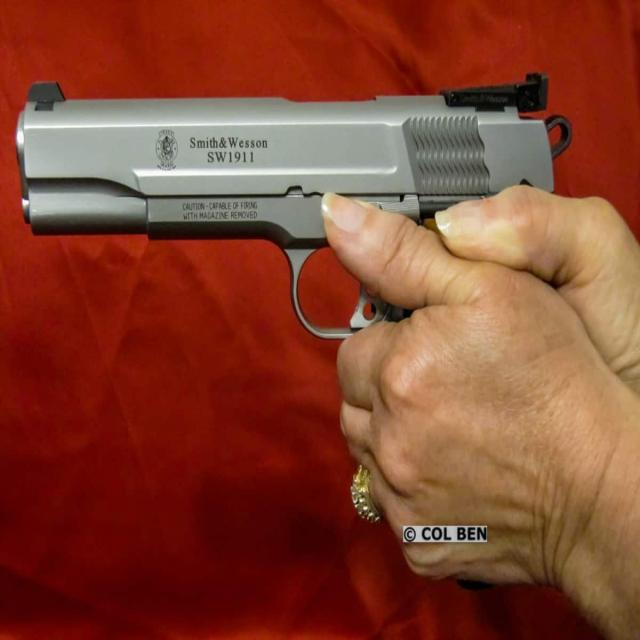HandGun: (14, 82, 573, 338)
